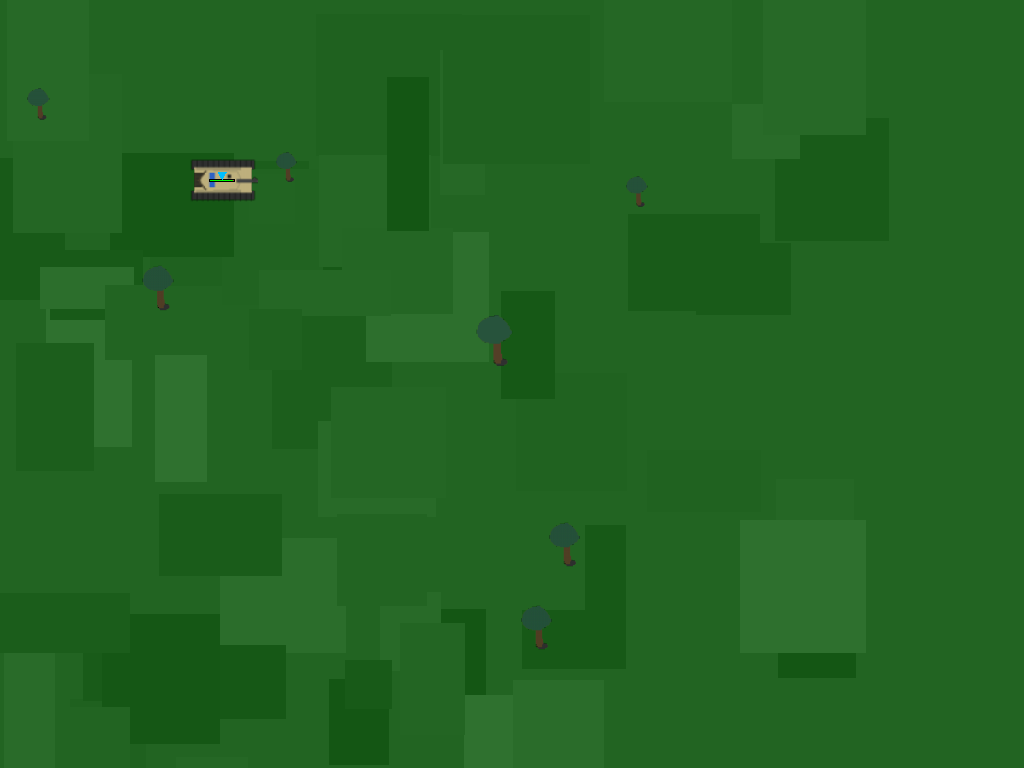M1A2_usa: (191, 147, 253, 209)
